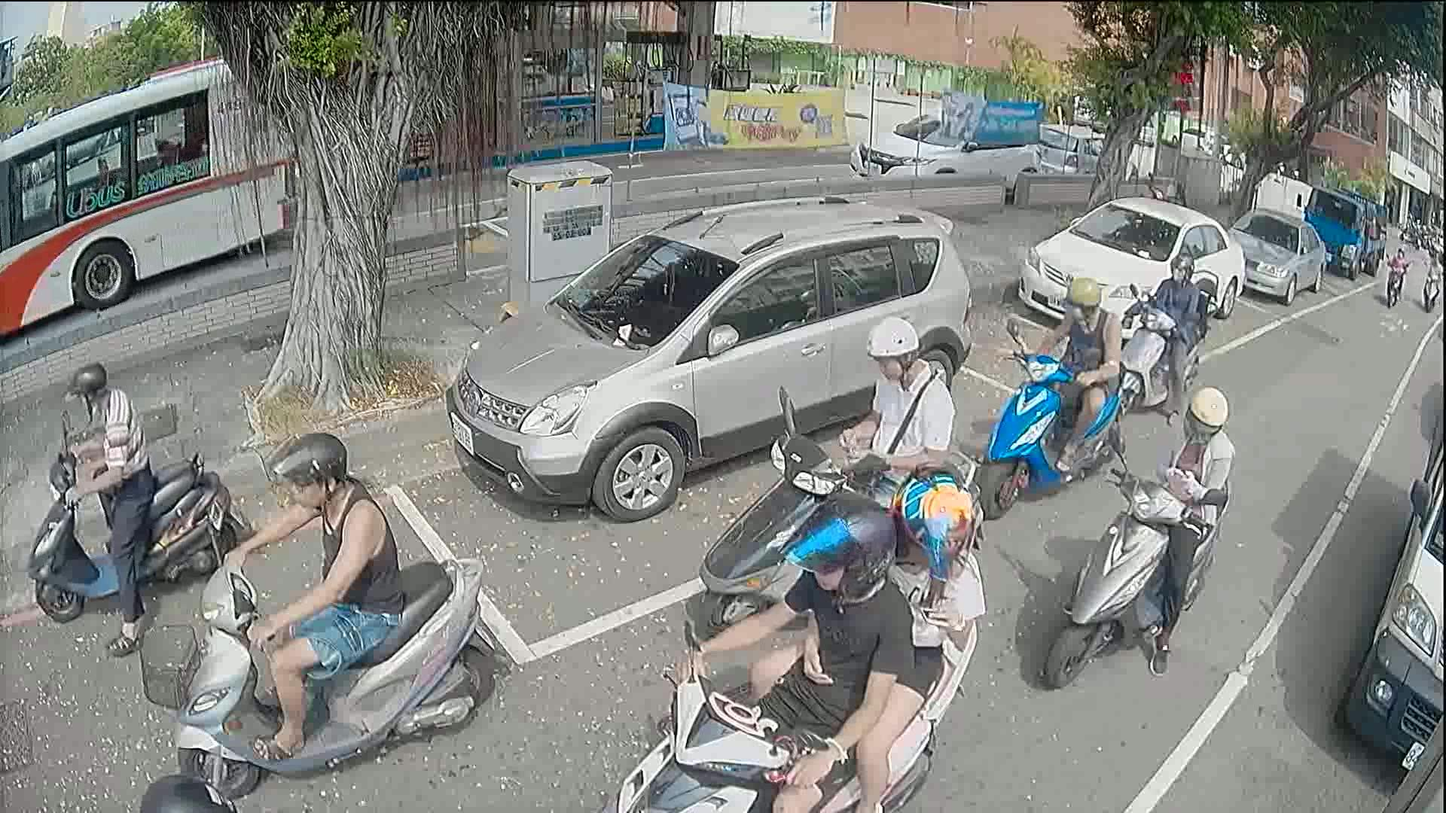person: (648, 485, 916, 812), (746, 467, 984, 809), (214, 423, 403, 769), (1130, 376, 1228, 676), (56, 358, 153, 650), (832, 312, 951, 518), (1022, 263, 1118, 474), (1149, 250, 1216, 418), (139, 754, 239, 811), (1426, 249, 1442, 282), (1387, 248, 1406, 266)
